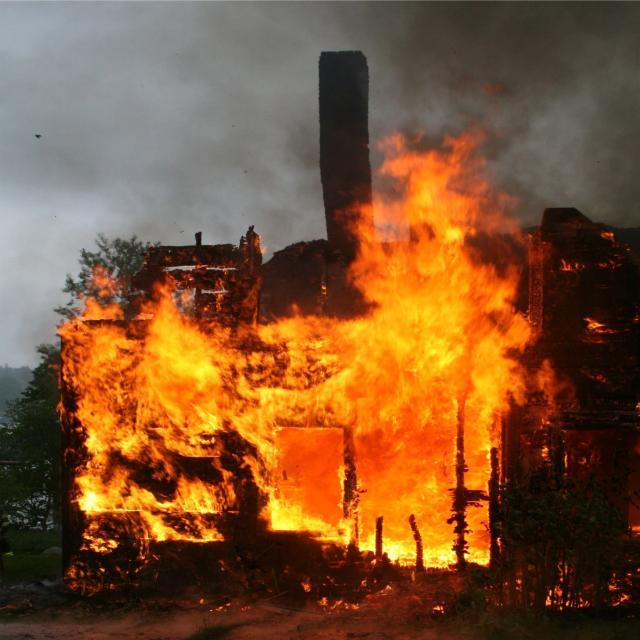Fire: (59, 135, 594, 570), (61, 511, 158, 598), (303, 574, 453, 616), (540, 558, 630, 612), (562, 230, 636, 274), (200, 595, 253, 615), (583, 316, 617, 346)
Smoke: (0, 0, 640, 232)
